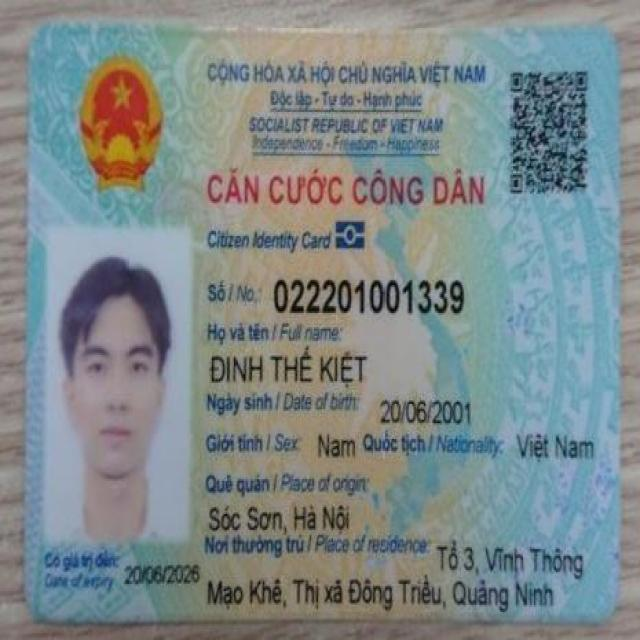current_place: (203, 569, 558, 615), (433, 540, 591, 579)
dob: (375, 392, 477, 428)
expire_date: (123, 558, 204, 589)
gender: (315, 428, 363, 455)
id: (270, 276, 468, 316)
name: (209, 344, 365, 387)
nationality: (514, 427, 600, 466)
origin_place: (209, 501, 356, 532)
qr: (505, 66, 595, 200)
